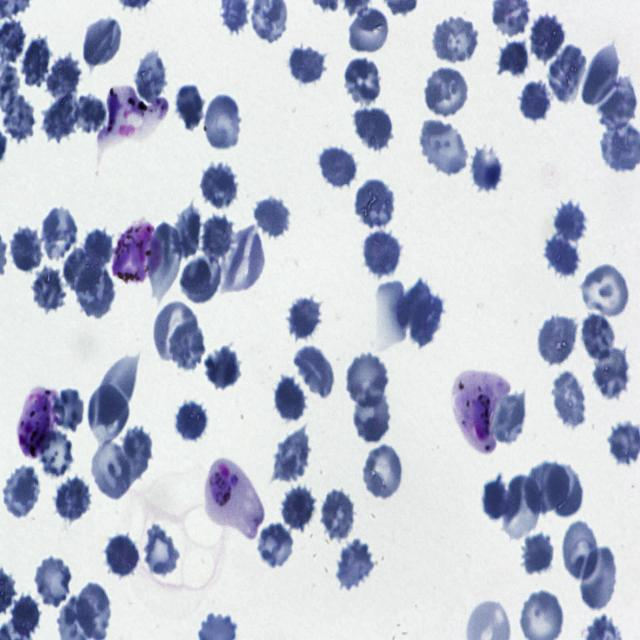difficult: (203, 458, 266, 541)
gametocyte: (111, 219, 160, 284)
red blood cell: (419, 116, 471, 176), (99, 351, 140, 427), (221, 226, 266, 292), (582, 259, 630, 320), (154, 300, 199, 361), (88, 440, 132, 501), (87, 383, 130, 445), (584, 42, 622, 112), (578, 546, 618, 612), (345, 351, 390, 408), (431, 13, 479, 66), (546, 44, 587, 105), (361, 444, 404, 502), (423, 66, 470, 119), (146, 223, 179, 298), (549, 369, 589, 430), (524, 461, 570, 514), (353, 176, 397, 231), (342, 4, 392, 52), (202, 94, 244, 151), (587, 346, 628, 404), (76, 263, 116, 322), (562, 520, 600, 582), (502, 475, 538, 540), (140, 523, 180, 581), (294, 345, 336, 400), (538, 312, 579, 367), (598, 75, 636, 133), (40, 91, 80, 146), (180, 255, 222, 307), (39, 204, 78, 260), (33, 555, 74, 608), (272, 429, 312, 483), (2, 465, 41, 520), (318, 488, 357, 542), (61, 245, 102, 296), (199, 159, 239, 211), (336, 538, 375, 591), (354, 102, 394, 153), (491, 388, 528, 443), (120, 426, 154, 485), (361, 228, 401, 278), (84, 17, 123, 68), (315, 142, 358, 188), (344, 54, 384, 103), (546, 466, 584, 517), (286, 42, 328, 88), (9, 224, 46, 276), (554, 199, 594, 247), (409, 296, 445, 349), (352, 395, 390, 444), (397, 279, 433, 330), (168, 320, 205, 369), (104, 532, 140, 582), (542, 233, 582, 278), (257, 523, 296, 569), (21, 36, 55, 88), (134, 48, 166, 103), (530, 12, 564, 62), (200, 213, 234, 263), (174, 398, 210, 445), (284, 296, 322, 340), (2, 93, 36, 142), (31, 264, 65, 313), (205, 346, 242, 391), (46, 52, 82, 98), (174, 204, 202, 262), (582, 312, 615, 361), (282, 484, 316, 531), (56, 477, 92, 521), (519, 532, 555, 575), (41, 431, 75, 476), (174, 82, 204, 132), (472, 145, 502, 195), (73, 93, 108, 135), (482, 474, 512, 522), (520, 76, 552, 121), (51, 387, 84, 430), (256, 195, 288, 239), (10, 594, 40, 640), (276, 376, 306, 421), (82, 226, 114, 268), (498, 38, 528, 77)
schizont: (16, 388, 56, 458)
trophozoite: (454, 370, 512, 454), (96, 86, 170, 149)
